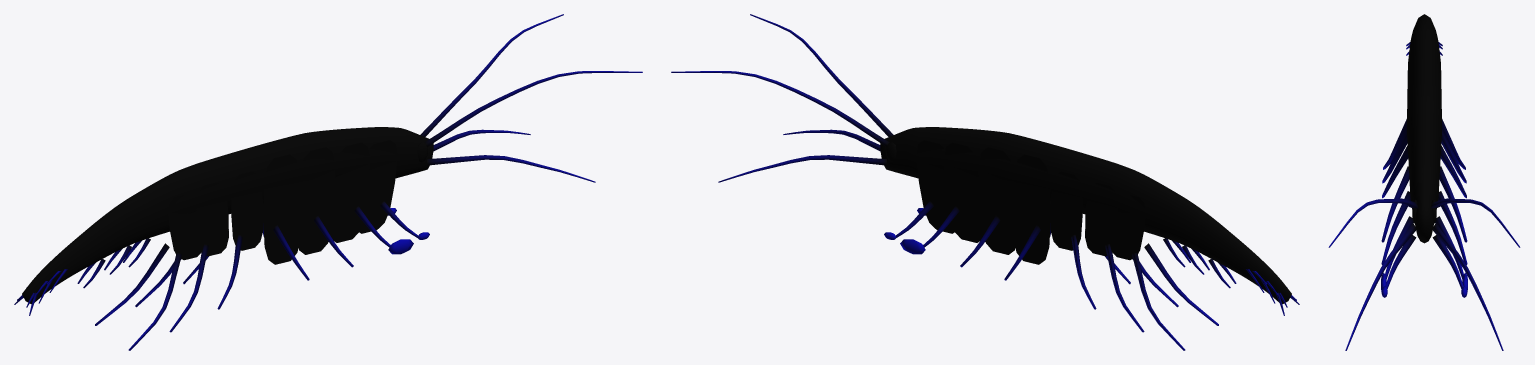
Rendered from micro_amphipod.glb.
3 views of the same model, side by side, from view 1: azimuth 30°, elevation 25°; view 2: azimuth 150°, elevation 25°; view 3: azimuth 270°, elevation 25° (orthographic). The views are drawn at different scales.
Visible parts, largest first — view 1: Body, Legs, Antennae; view 2: Body, Legs, Antennae; view 3: Body, Legs, Antennae.
Part boxes in pixels (x1=…): Body: x1=22, y1=127, x2=433, y2=304; Legs: x1=14, y1=201, x2=429, y2=350; Antennae: x1=420, y1=14, x2=642, y2=182; Body: x1=880, y1=127, x2=1291, y2=304; Legs: x1=884, y1=201, x2=1299, y2=350; Antennae: x1=671, y1=14, x2=893, y2=182; Body: x1=1407, y1=14, x2=1441, y2=243; Legs: x1=1381, y1=42, x2=1467, y2=297; Antennae: x1=1328, y1=198, x2=1520, y2=350.
Size of the model in its own units: 1.42 by 0.421 by 0.3353.
2 materials, 1 textured.
